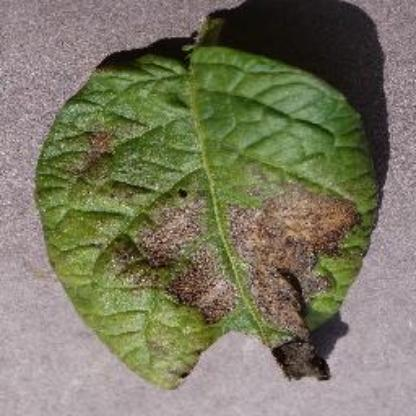Late-Blight: (14, 16, 402, 404)
